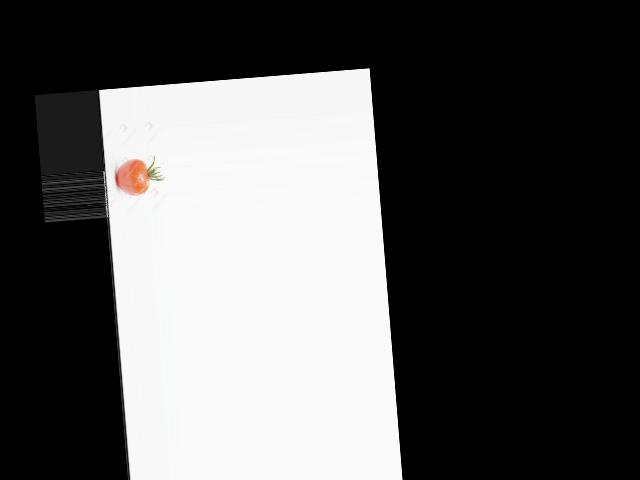tomato: (115, 157, 149, 196)
